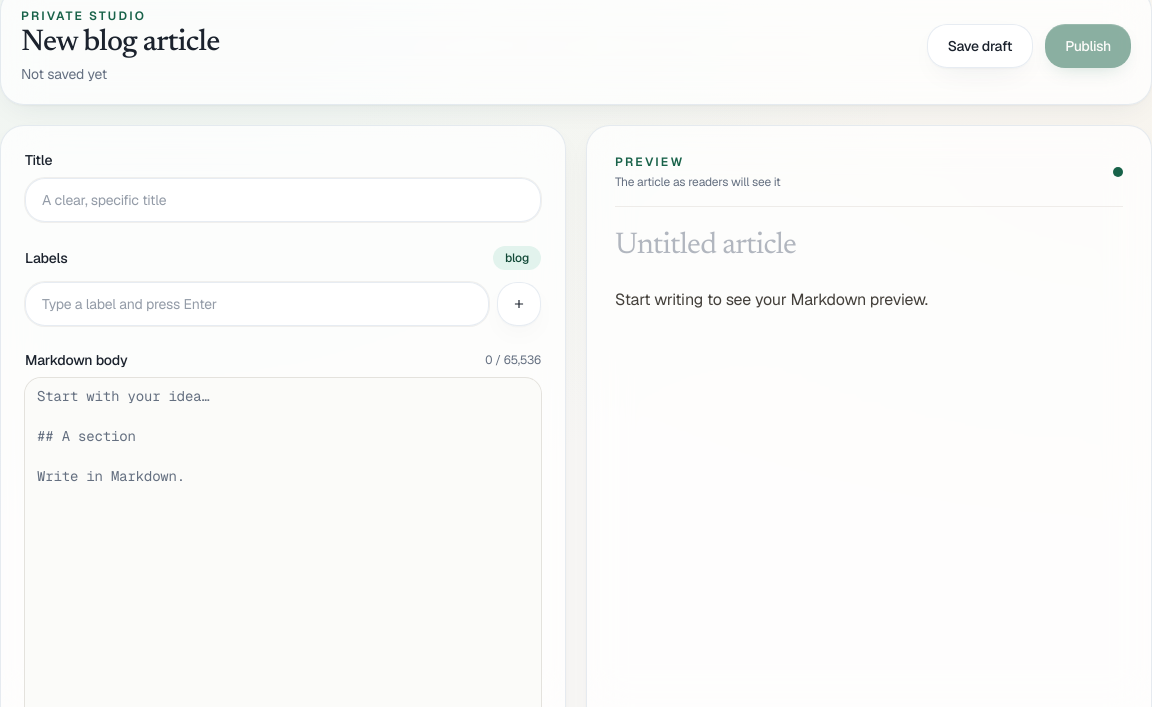
Test: BlogEditor › confirms and publishes an issue with user-selected labels
Type "A thoughtful post" into the field labelled "Title". click: (283, 200)
box: [25,178,541,222]
(page scrolled)
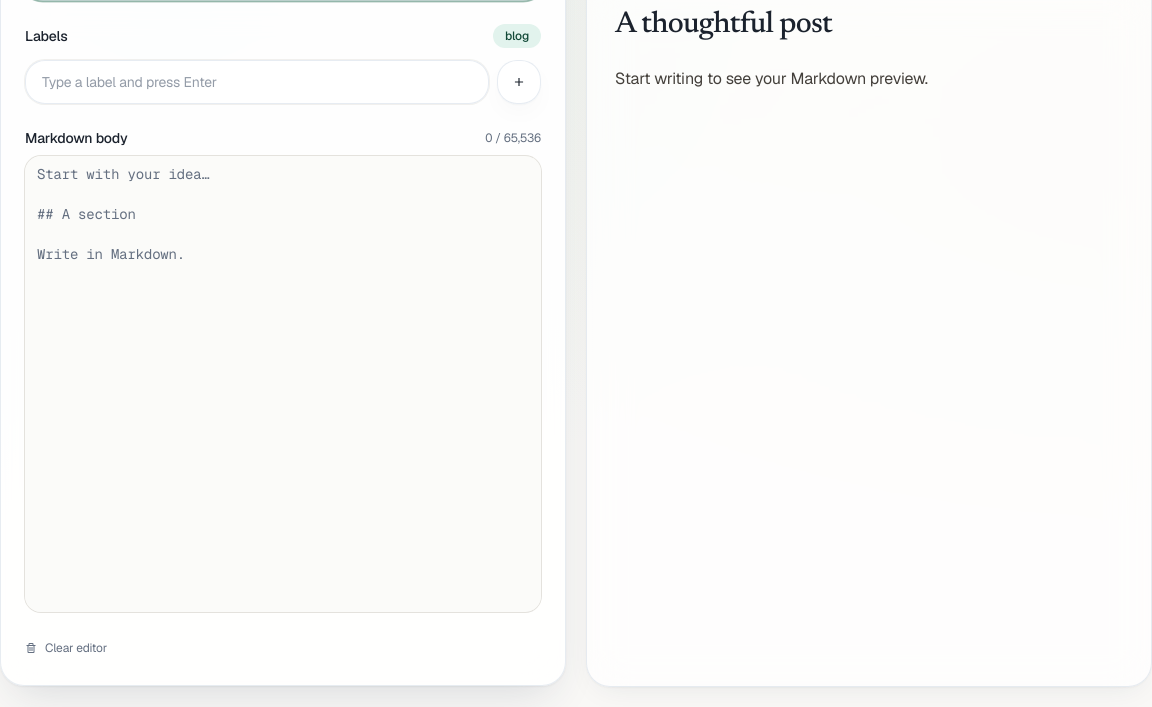
Type "# Hello world" into the text box labelled "Markdown body". click: (283, 384)
box: [25,156,541,612]
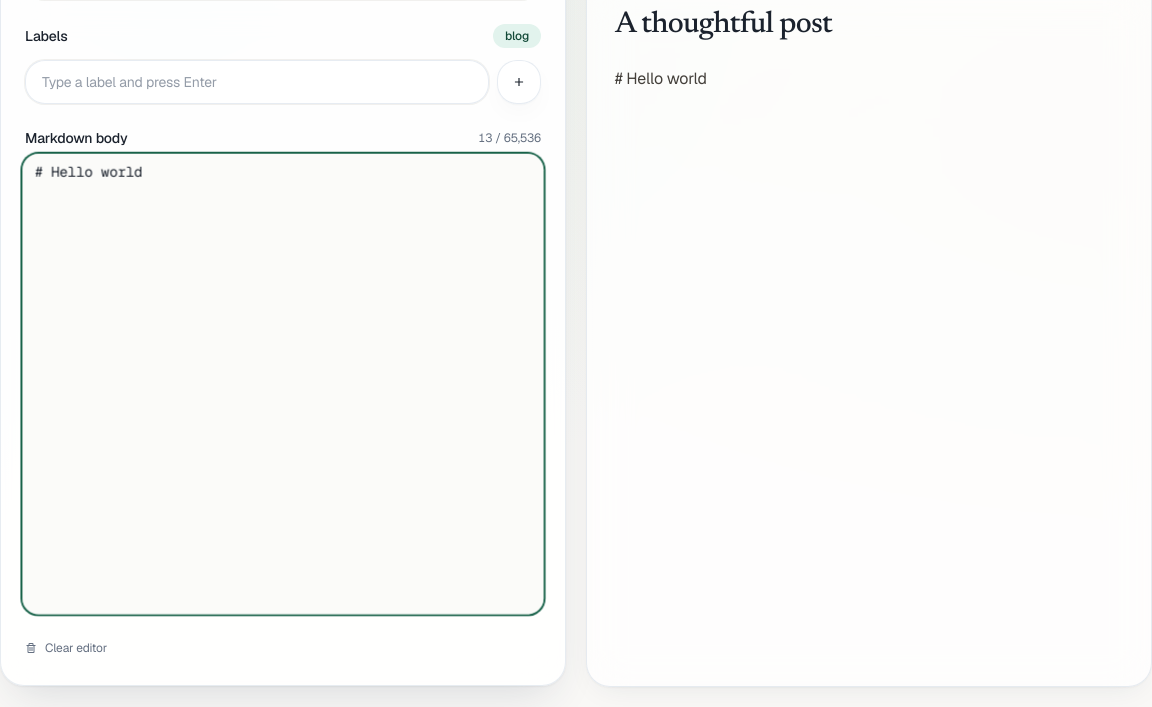
Type "AI" into the field named "Add label". click: (257, 82)
box: [25,60,489,104]
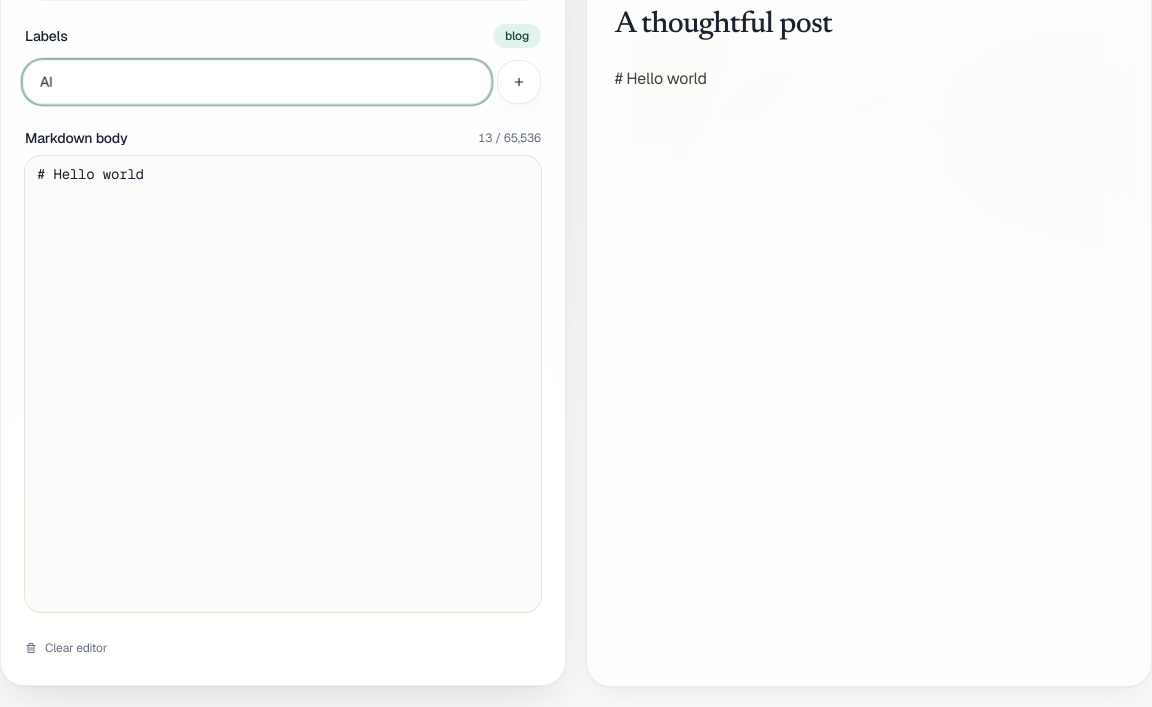
Press Enter
(page scrolled)
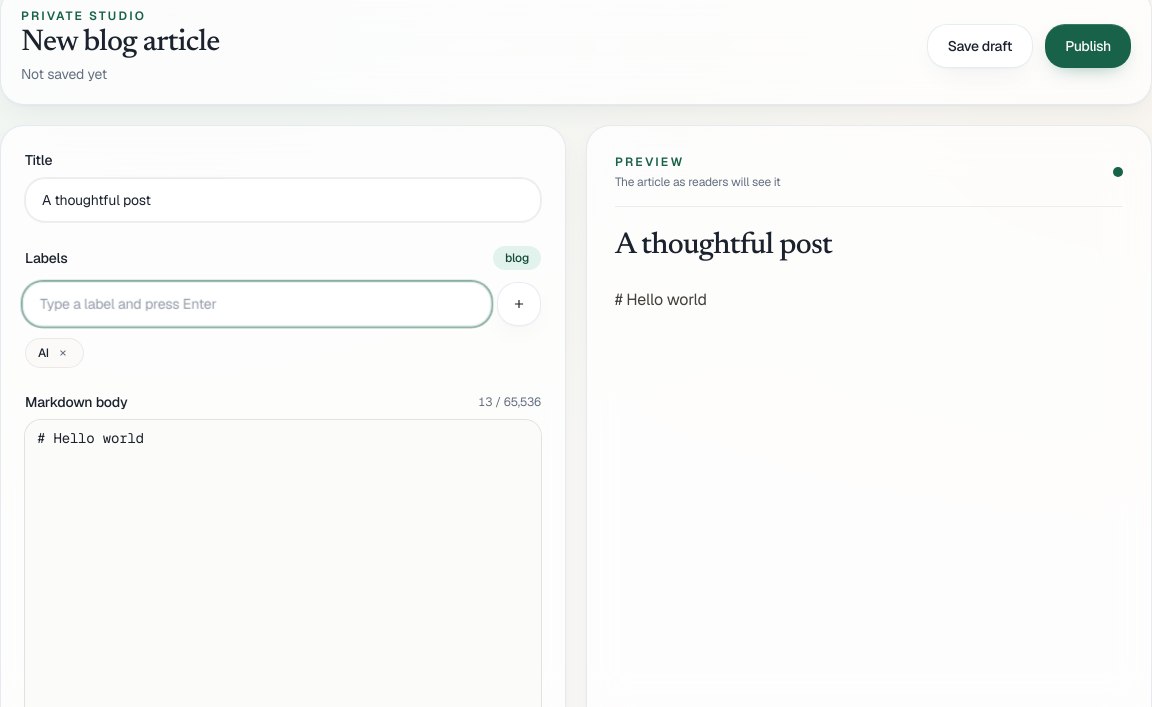
Click the button "Publish". click: (1088, 46)
box: [1045,24,1131,68]
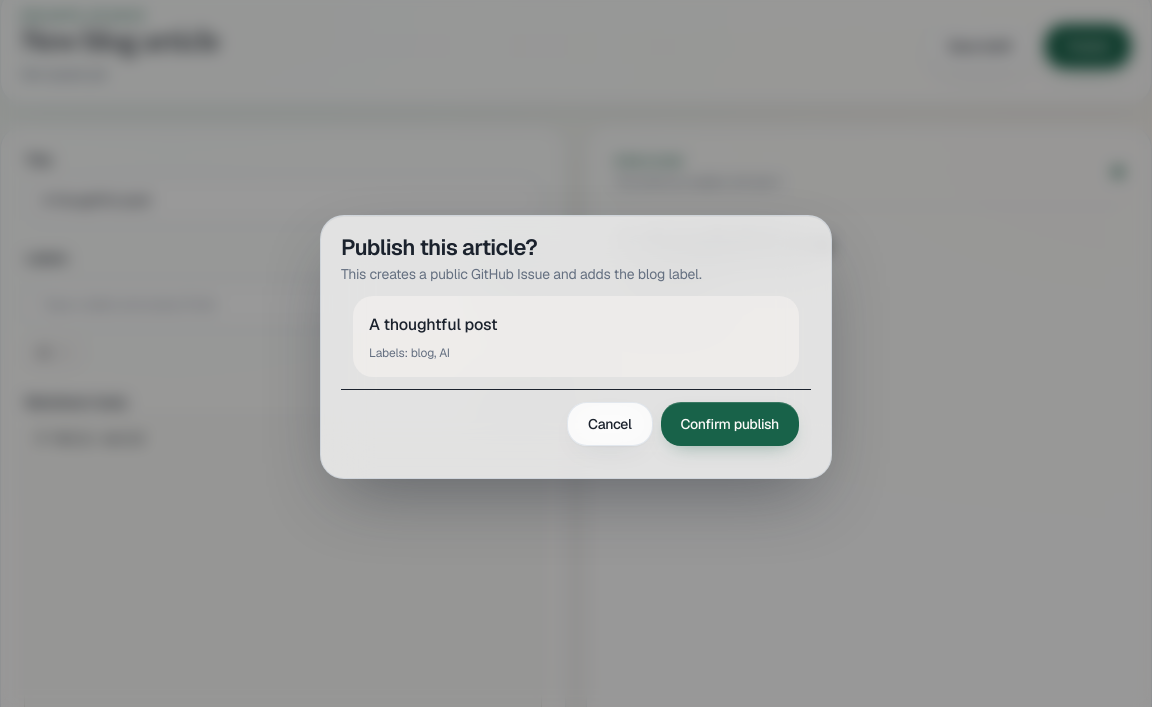
Now the heading "Publish this article?" is shown, box [341,233,537,261]
Click the button "Confirm publish". click: (730, 424)
box: [661,402,799,446]
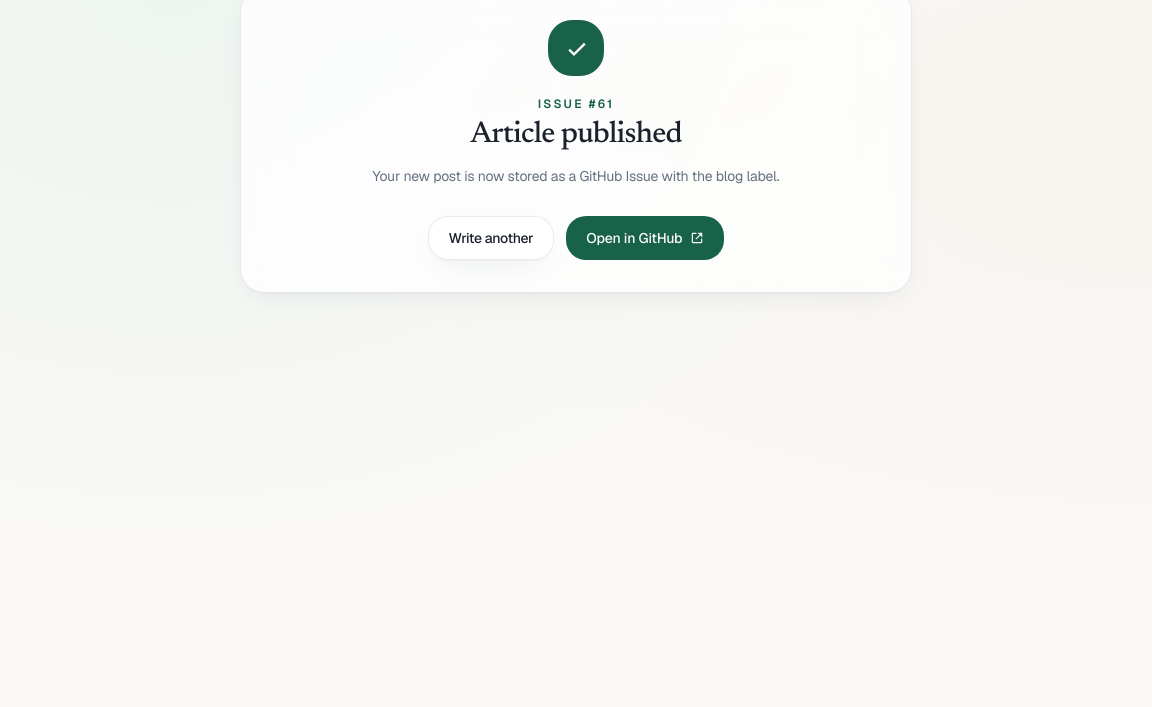
Now the heading "Article published" is shown, box [470,120,682,150]
